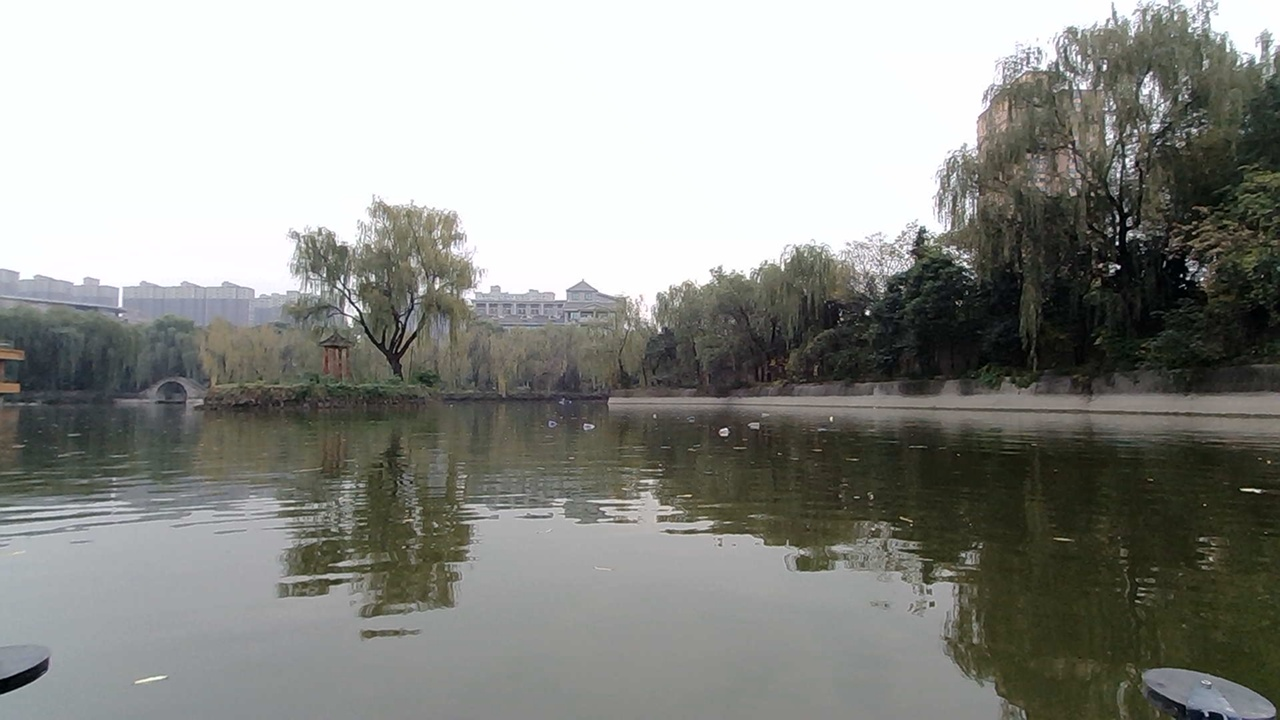bottle: (823, 408, 852, 435), (580, 412, 603, 435), (640, 406, 669, 424), (547, 411, 568, 432), (685, 406, 707, 425), (714, 423, 736, 440), (743, 414, 765, 430)
